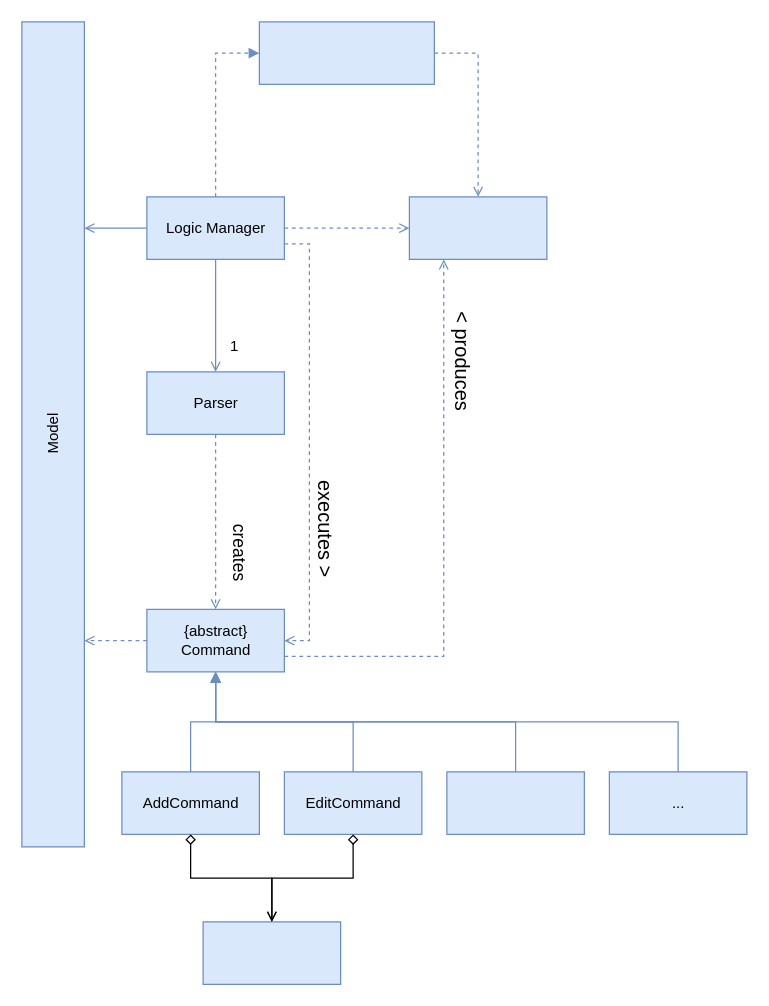
Image size: 769x1006. Some labels were removed from this diagram. The shapes that lost their labels are listed below. From the top down, each one's centre as x and y in pixels, then its label:
pixel 346 52: «interface» Logic
pixel 477 227: CommandResult
pixel 515 802: UndoCommand
pixel 271 952: DateTimeParser
